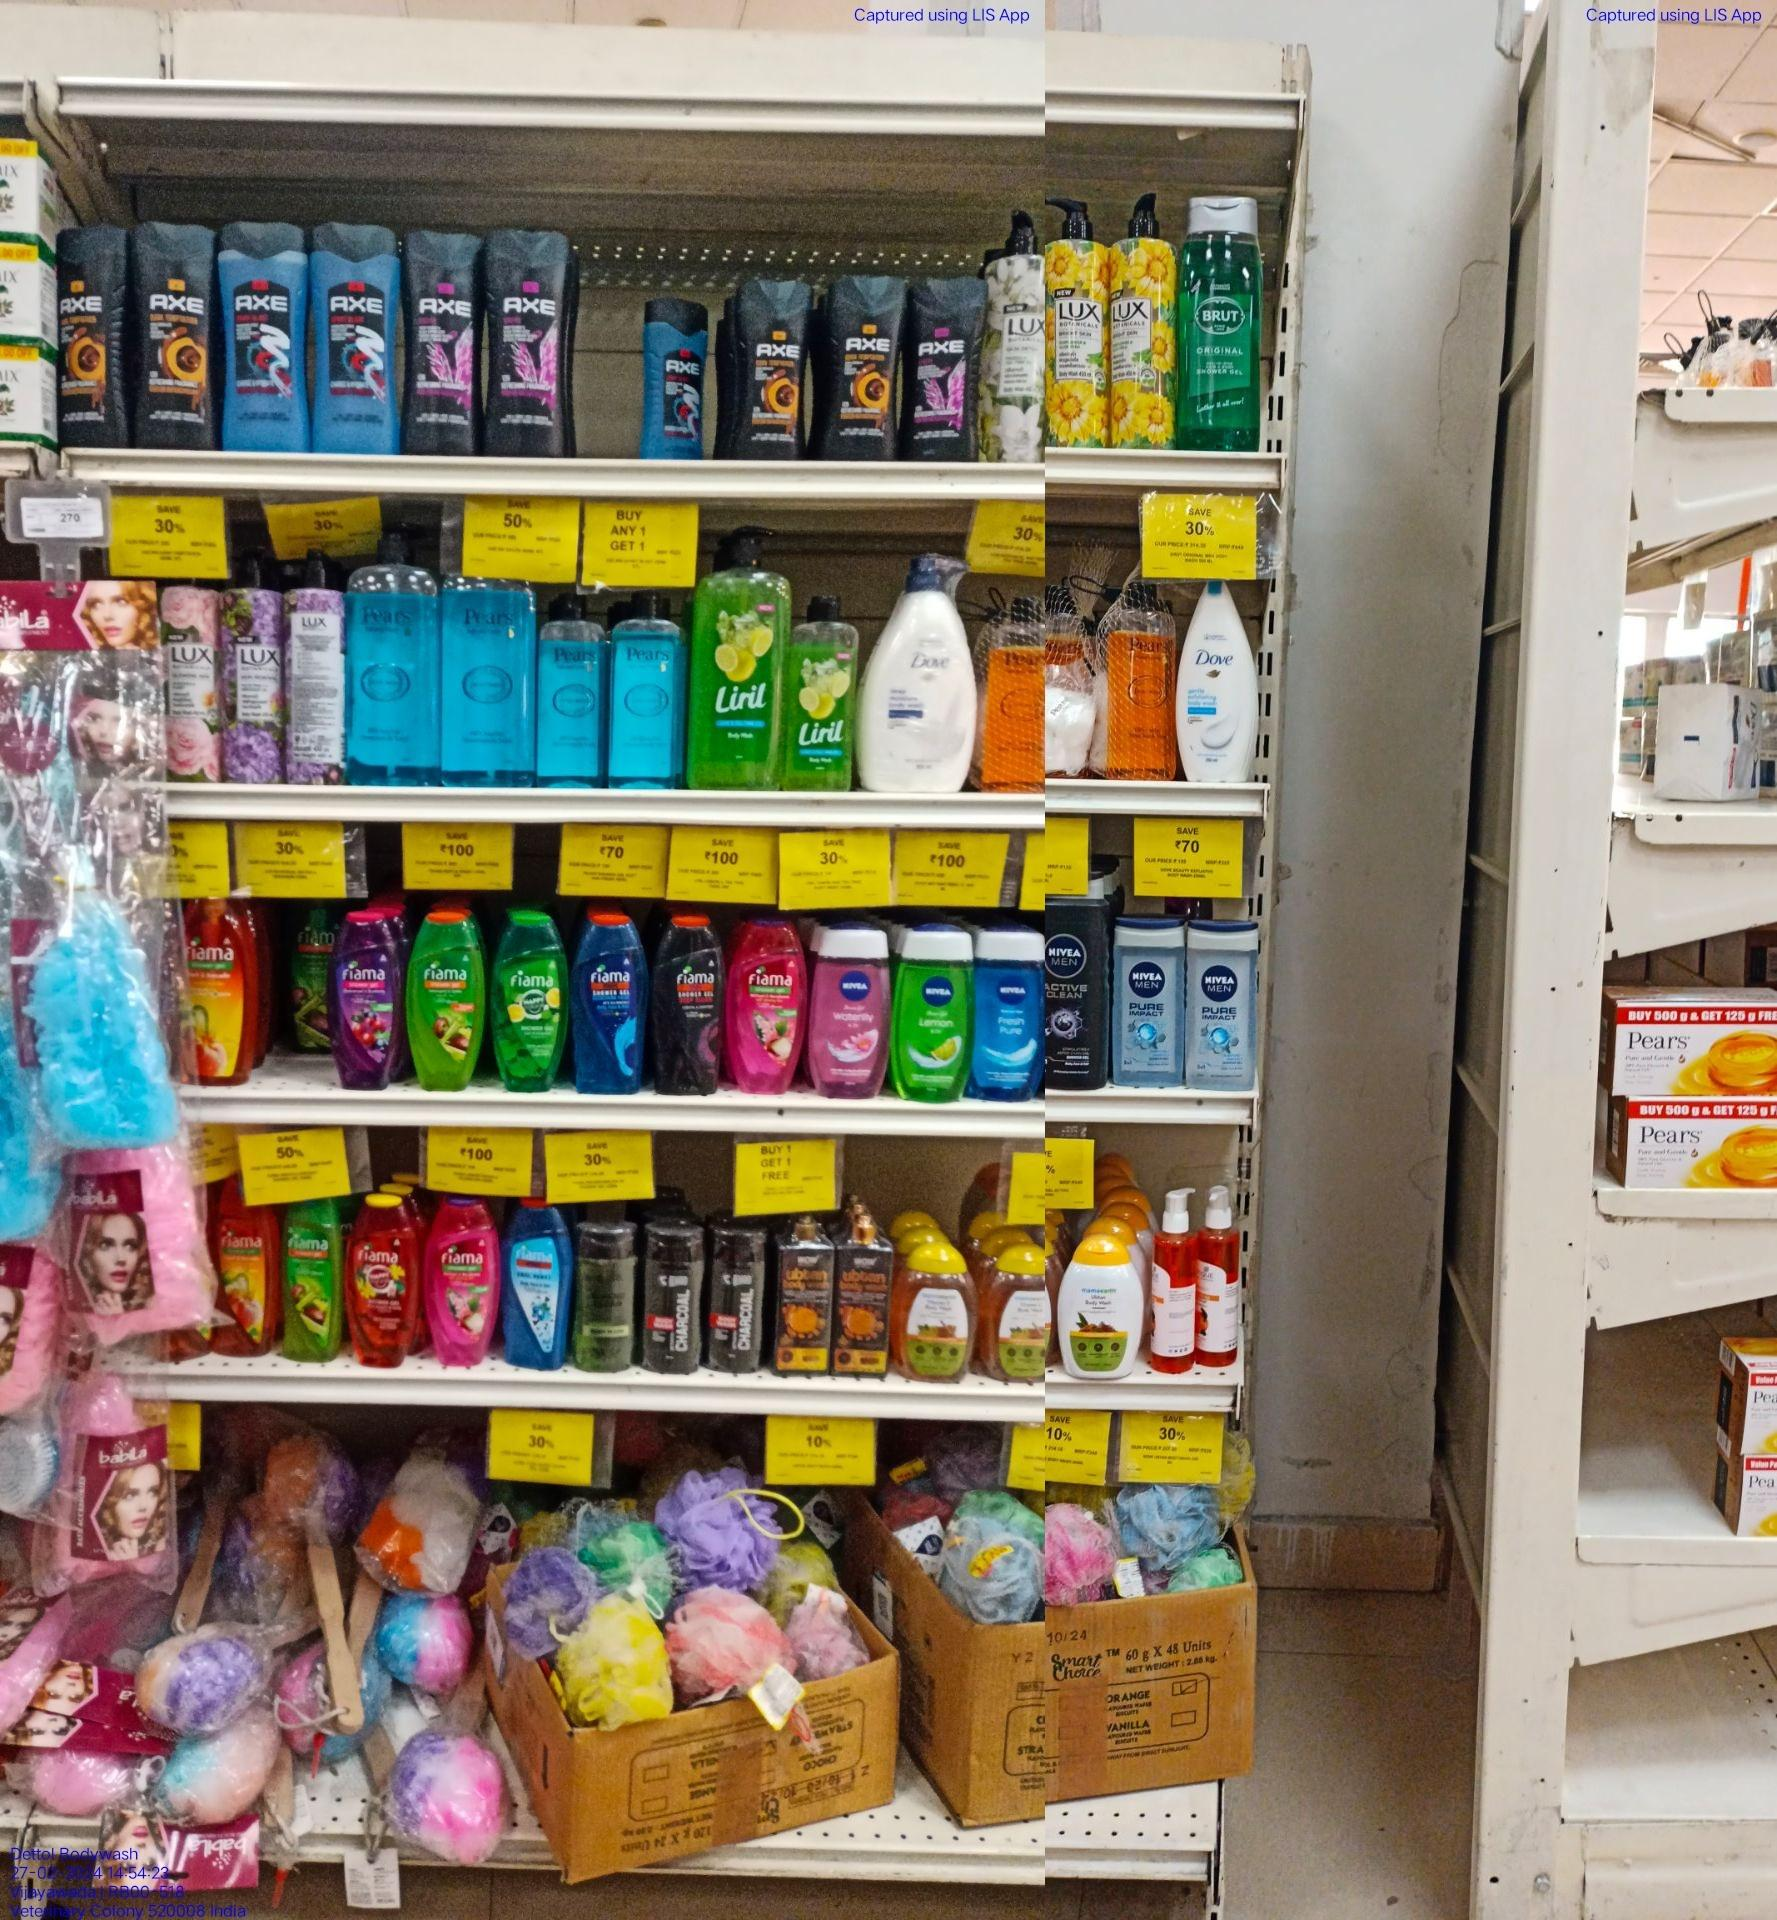Dove_Gentle_Exfoliating_Body_Wash_250ML: (1178, 580, 1258, 786)
Fiama_Shower_Gel_Lemongrass_and_Jojoba_250ML: (407, 911, 485, 1095), (279, 1206, 336, 1365)
Fiama_Shower_Gel_Patchouli_and_Macadamia_250ML: (733, 917, 800, 1094), (432, 1199, 502, 1365)
Fiama_Shower_Gel_Peach_and_Avocado_250ML: (209, 1181, 273, 1356)
Liril_Lime_and_Tea_Tree_Oil_Body_Wash_250ML: (790, 592, 857, 794)
Nivea_Shower_Gel_Lemon_and_Oil_250ML: (890, 920, 964, 1100)
Nivea_Shower_Gel_Waterlily_and_Oil_250ML: (813, 918, 888, 1100)
Pears_Pure_Glycerin_and_Mint_Extracts_Body_Wash_250ML: (612, 589, 683, 791), (542, 594, 607, 789)
